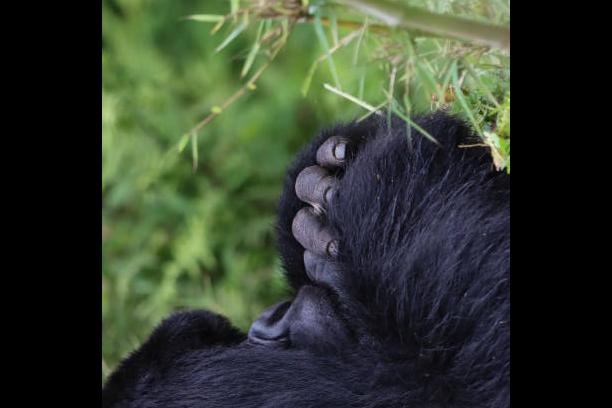goriile_montagne: (102, 103, 510, 408)
